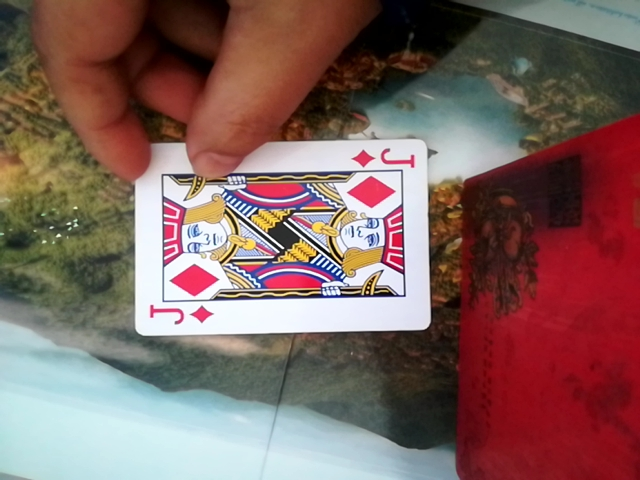fk j: (121, 132, 435, 340)
